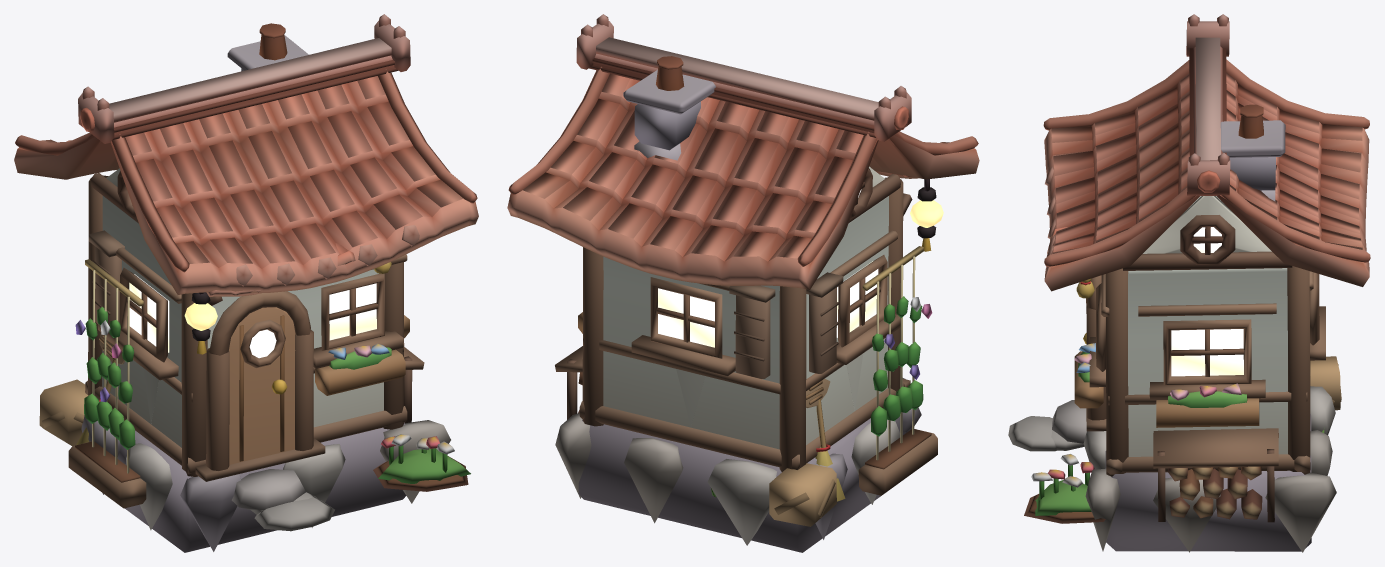
Rendered from home-1-v2.glb.
3 views of the same model, side by side, from view 1: azimuth 30°, elevation 25°; view 2: azimuth 150°, elevation 25°; view 3: azimuth 270°, elevation 25° (orthographic). The views are drawn at different scales.
Parts seen in each view (by area): view 1: home, window_glow; view 2: home, window_glow; view 3: home, window_glow.
Part boxes in pixels (box(x1,y1,x2,y2)): home: box(14, 14, 478, 552); window_glow: box(129, 274, 376, 358); home: box(507, 14, 979, 552); window_glow: box(658, 189, 943, 347); home: box(1008, 14, 1370, 552); window_glow: box(1171, 227, 1243, 376).
Bounding box in the file's own units: 2.19 × 2.86 × 2.26.
